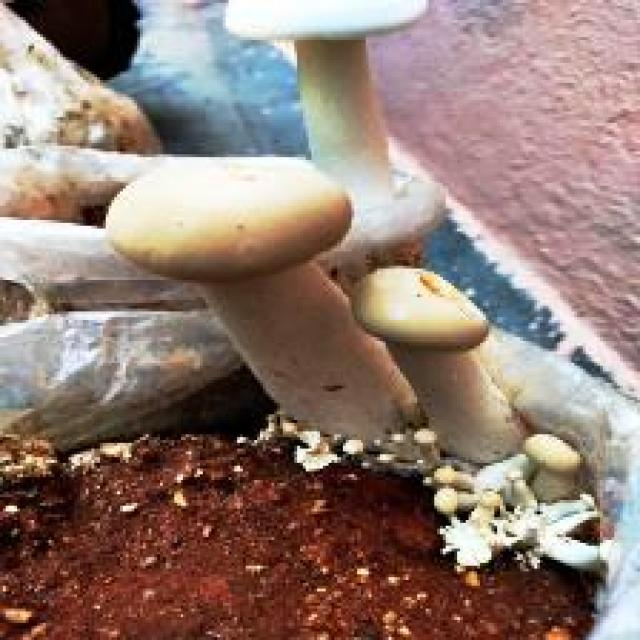field-mushroom: (100, 152, 423, 448), (220, 0, 446, 277)
